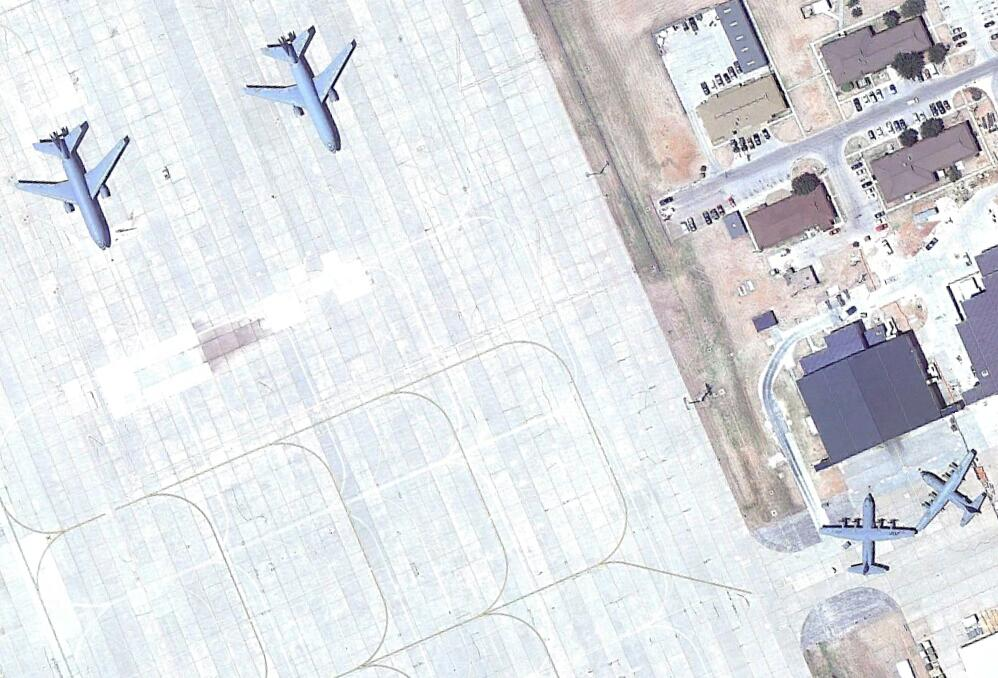A18: (240, 23, 368, 158), (13, 119, 138, 251)
A2: (818, 491, 916, 577), (920, 450, 989, 537)
